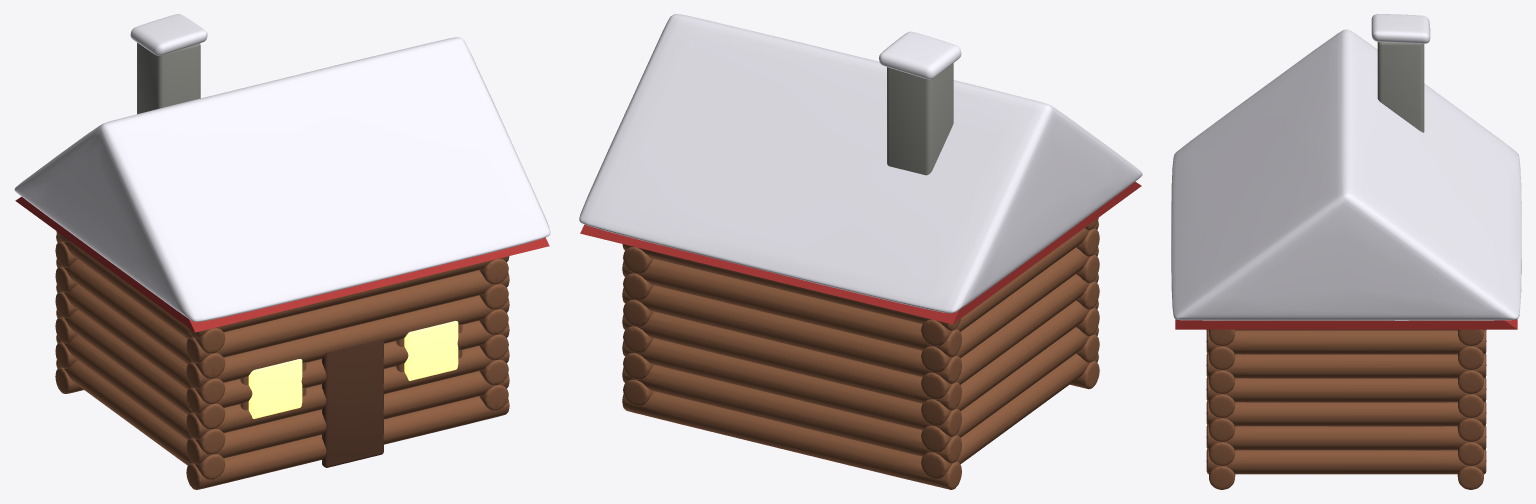
The model's file is plush_cabin.glb.
The picture shows the model from 3 angles, left to right: view 1: azimuth 30°, elevation 25°; view 2: azimuth 150°, elevation 25°; view 3: azimuth 270°, elevation 25°; orthographic projection. The views are drawn at different scales.
Visible parts, largest first — view 1: roofsnow, logx0-1, door, win-0.55, roof, chimney, chimsnow; view 2: roofsnow, logx0-1, chimney, roof, chimsnow; view 3: roofsnow, logx0-1, chimney, roof, chimsnow.
Boxes of the visible parts, box(x1,y1,x2,y2) form: roofsnow: box(14, 37, 550, 321); logx0-1: box(55, 231, 509, 489); door: box(322, 338, 383, 467); win-0.55: box(248, 321, 458, 418); roof: box(15, 196, 549, 332); chimney: box(137, 43, 200, 114); chimsnow: box(130, 14, 207, 55); roofsnow: box(579, 14, 1142, 313); logx0-1: box(622, 217, 1099, 489); chimney: box(887, 63, 953, 175); roof: box(580, 181, 1141, 324); chimsnow: box(879, 31, 961, 79); roofsnow: box(1171, 29, 1521, 320); logx0-1: box(1206, 329, 1486, 489); chimney: box(1377, 42, 1424, 132); roof: box(1175, 319, 1517, 329); chimsnow: box(1371, 14, 1430, 43).
Size of the model in its own units: 2.6 by 2.58 by 2.25.
7 materials, 7 textured.
